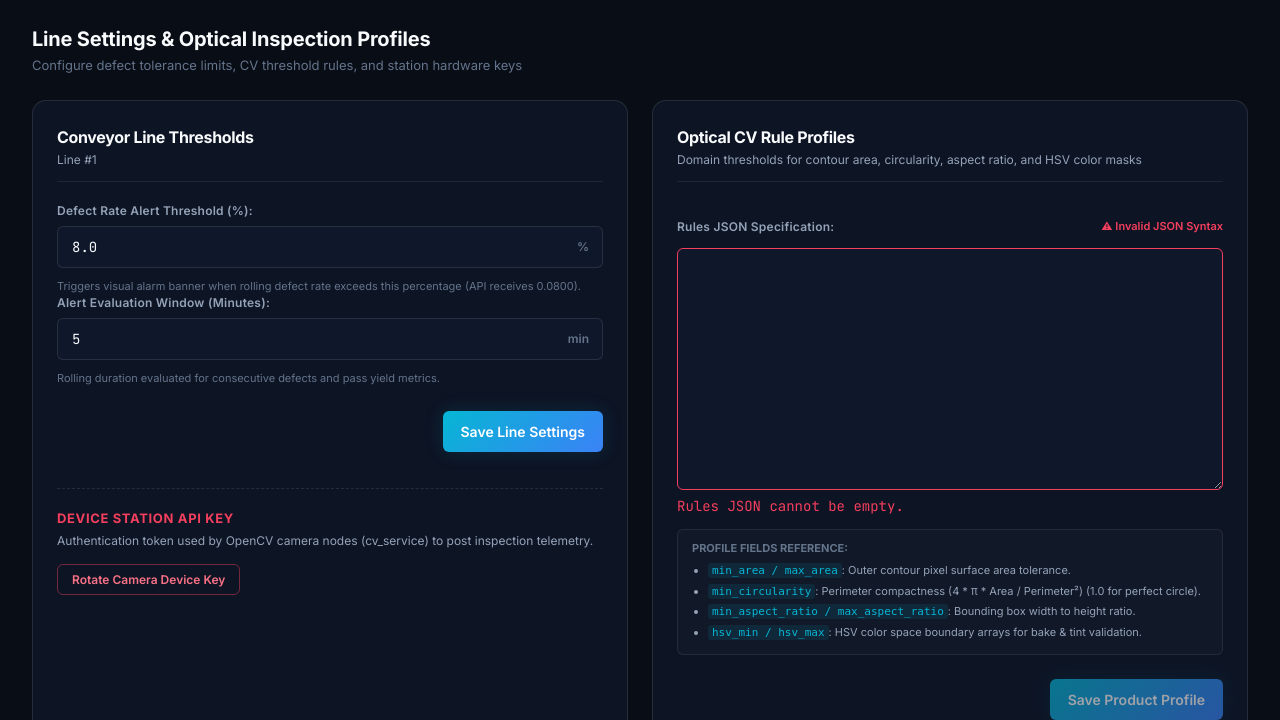
Test case: Day 6 Part B Comprehensive Tests › Admin Key Rotation Dialog & Wiping › displays newly generated key once, and purges it completely upon dismissal
The width and height of the screenshot is (1280, 720).
Click the button with test id "btn-rotate-key".
click(149, 580)  # box [57,564,240,595]
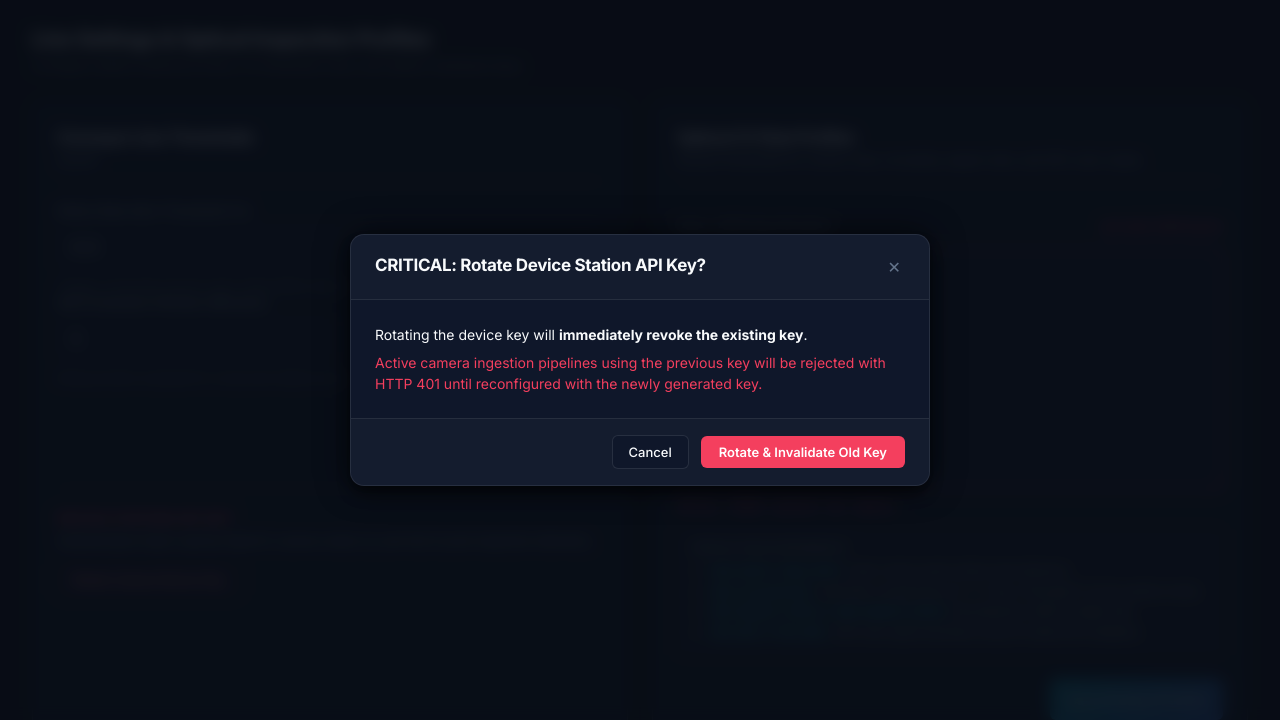
Check: the dialog with test id "confirm-dialog" is shown, box [350,234,930,486]
Check: the heading "CRITICAL: Rotate Device Station API Key?" is shown, box [375,253,706,278]
# Confirm rotation
Click the button with test id "dialog-confirm-button".
click(803, 452)  # box [701,436,905,468]
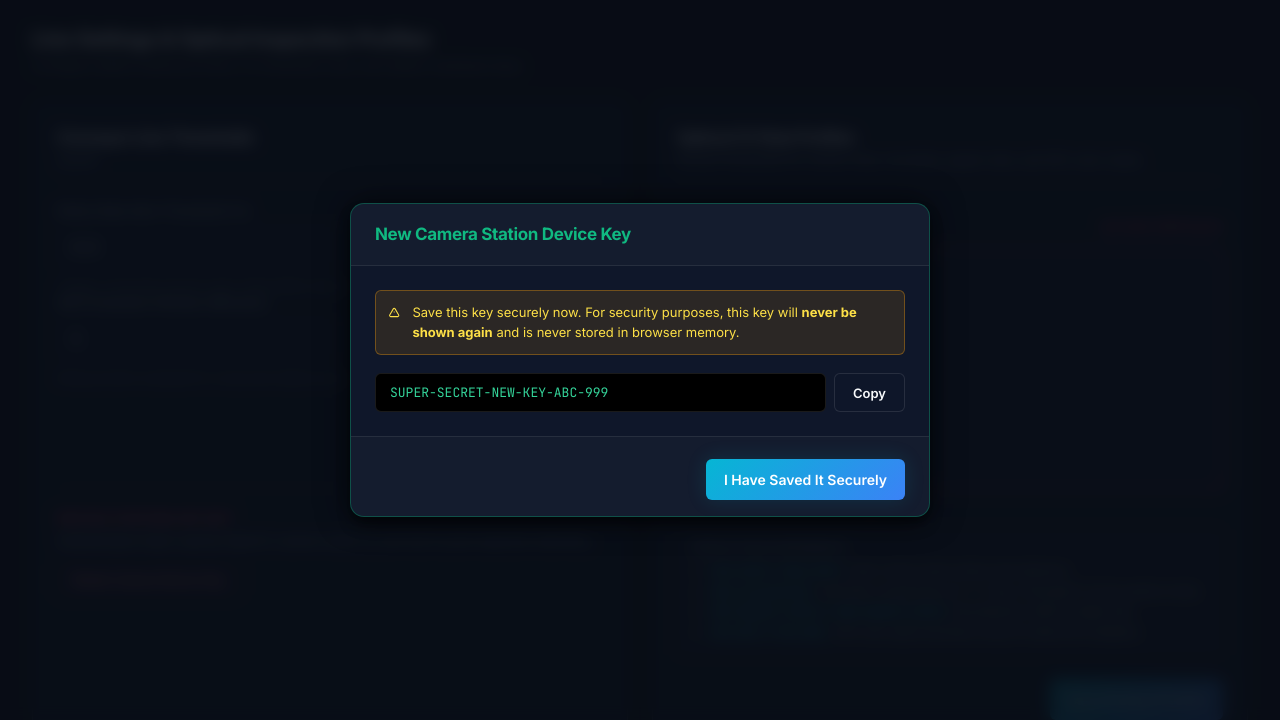
Check: the dialog with test id "revealed-key-modal" is shown, box [350,203,930,517]
Check: the field with test id "revealed-key-value" holds "SUPER-SECRET-NEW-KEY-ABC-999", box [375,373,826,412]
# Test copy action
Click the button with test id "btn-copy-key".
click(870, 393)  # box [834,373,905,412]
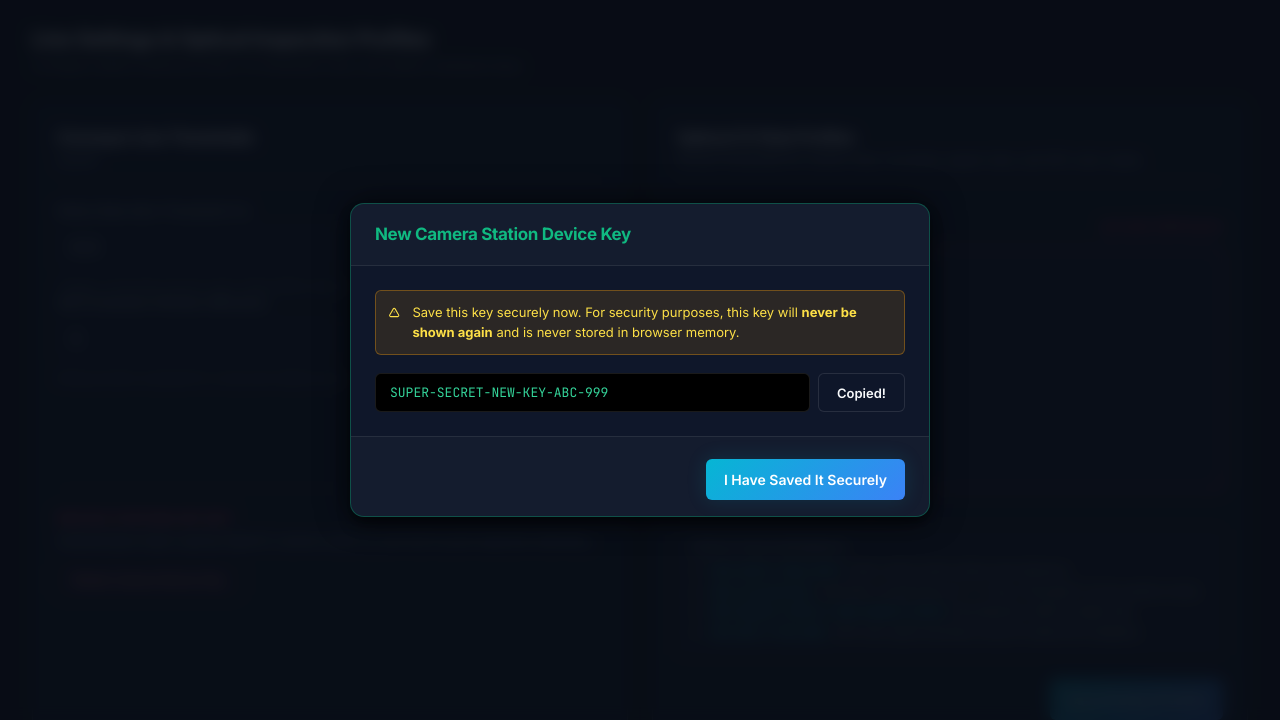
Check: the button "Copied!" is shown, box [818,373,905,412]
# Dismiss with "I Have Saved It Securely"
Click the button with test id "btn-key-saved-dismiss".
click(806, 480)  # box [706,459,905,500]
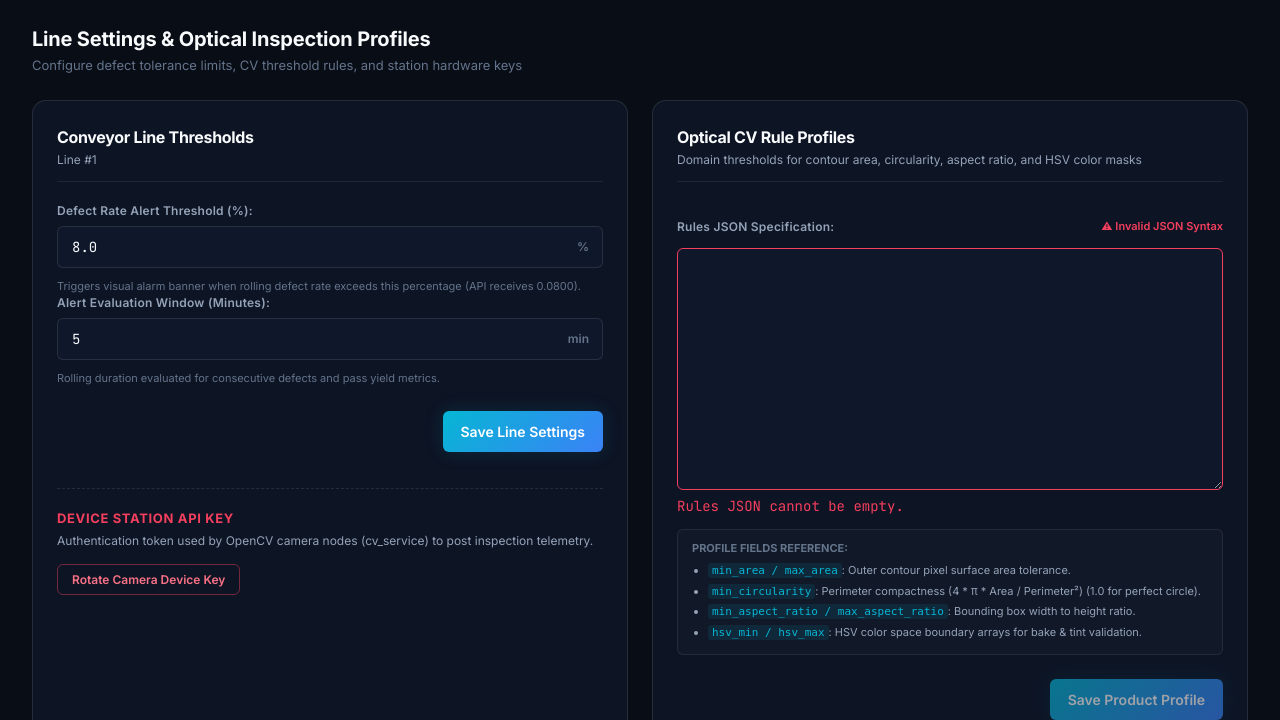
Check: the text "SUPER-SECRET-NEW-KEY-ABC-999" is not shown
Check: the dialog with test id "revealed-key-modal" is gone
